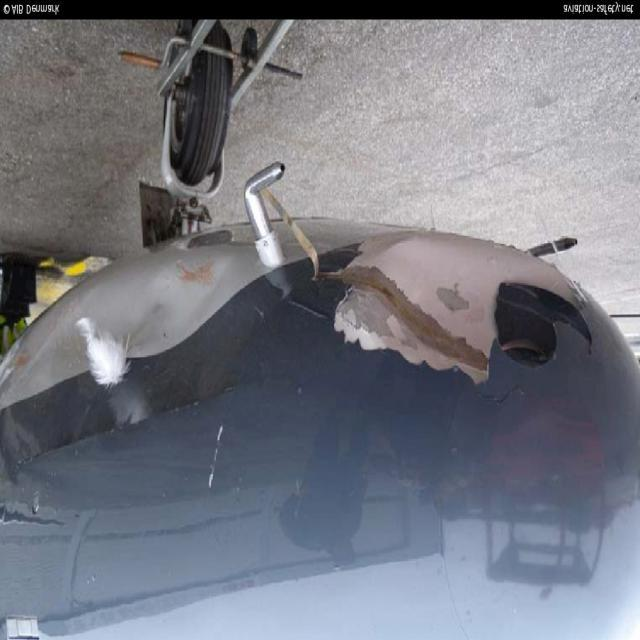crack: (475, 383, 535, 409)
dent: (138, 248, 249, 332)
